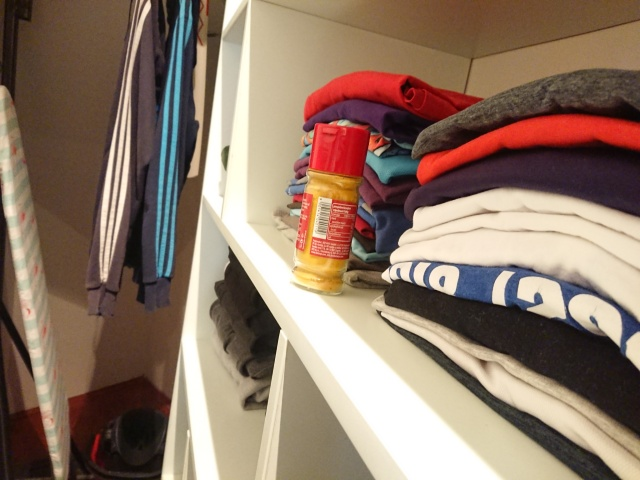Kotanyi Curry Spices Mix 70g: (289, 119, 373, 299)
